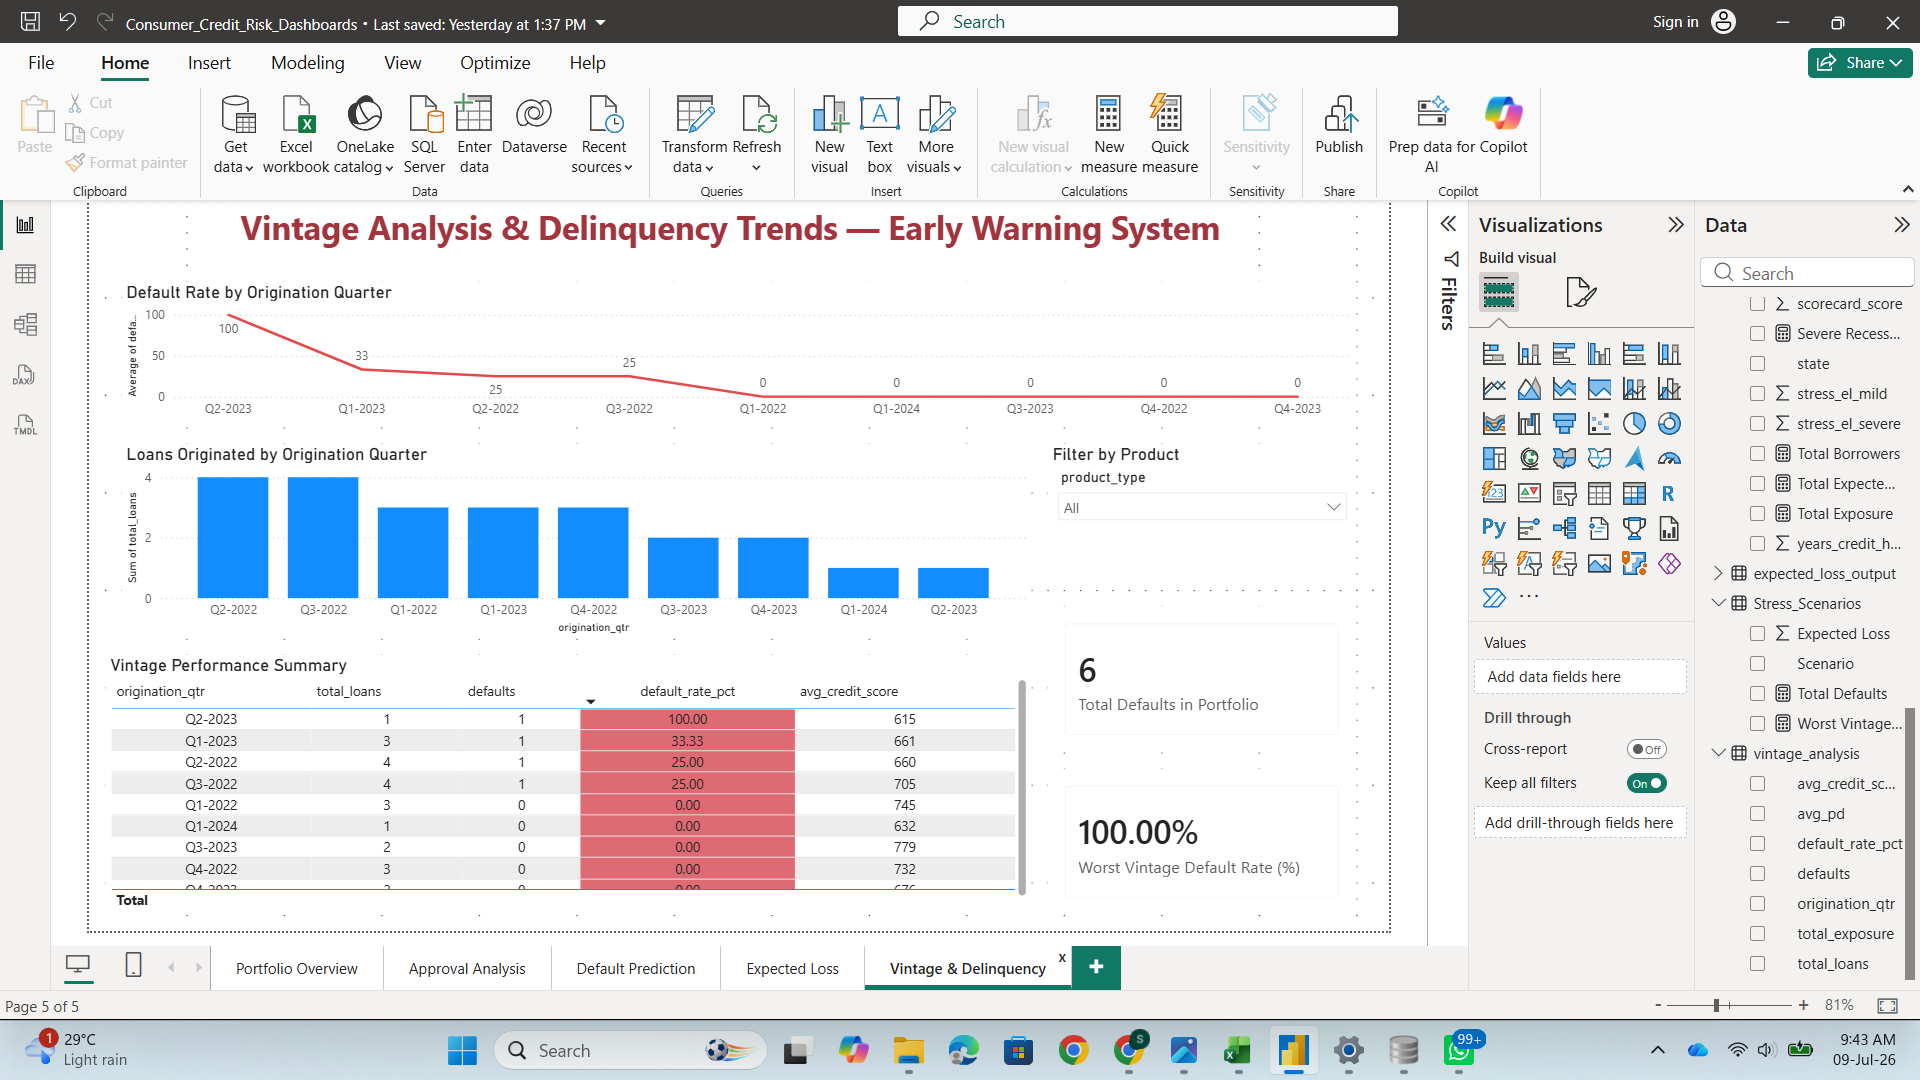

The page's visual inventory and layout, read from the dashboard file:
{"tool":"powerbi","page":{"name":"Vintage & Delinquency","canvas":[1280,720],"ordinal":4},"visuals":[{"type":"textbox","box":[144,0,992,80],"z":0},{"type":"lineChart","title":"Default Rate by Origination Quarter","fields":{"Category":["vintage_analysis.origination_qtr"],"Y":["Avg(vintage_analysis.default_rate_pct)"]},"box":[32,80,1216,144],"z":1000},{"type":"clusteredColumnChart","title":"Loans Originated by Origination Quarter","fields":{"Category":["vintage_analysis.origination_qtr"],"Y":["Sum(vintage_analysis.total_loans)"]},"box":[32,240,896,192],"z":2000},{"type":"cardVisual","fields":{"Data":["Stress_Scenarios.Worst Vintage Default Rate"]},"box":[944,560,304,144],"z":3000},{"type":"cardVisual","fields":{"Data":["Stress_Scenarios.Total Defaults"]},"box":[944,400,304,144],"z":4000},{"type":"tableEx","title":"Vintage Performance Summary","fields":{"Values":["vintage_analysis.origination_qtr","vintage_analysis.total_loans","vintage_analysis.defaults","vintage_analysis.default_rate_pct","vintage_analysis.avg_credit_score"]},"box":[16,448,912,256],"z":5000},{"type":"slicer","title":"Filter by Product","fields":{"Values":["borrowers_data.product_type"]},"box":[944,240,304,144],"z":6000}]}

Visuals, with their boxes on the page's 1280x720 design canvas (x1, y1, x2, y2). These are canvas units, not pixel positions in the 1920x1080 screenshot, which may show the page scaled, cropped or inside an application window:
textbox: [144,0,1136,80]
"Default Rate by Origination Quarter" lineChart: [32,80,1248,224]
"Loans Originated by Origination Quarter" clusteredColumnChart: [32,240,928,432]
cardVisual - Stress_Scenarios.Worst Vintage Default Rate: [944,560,1248,704]
cardVisual - Stress_Scenarios.Total Defaults: [944,400,1248,544]
"Vintage Performance Summary" tableEx: [16,448,928,704]
"Filter by Product" slicer: [944,240,1248,384]
